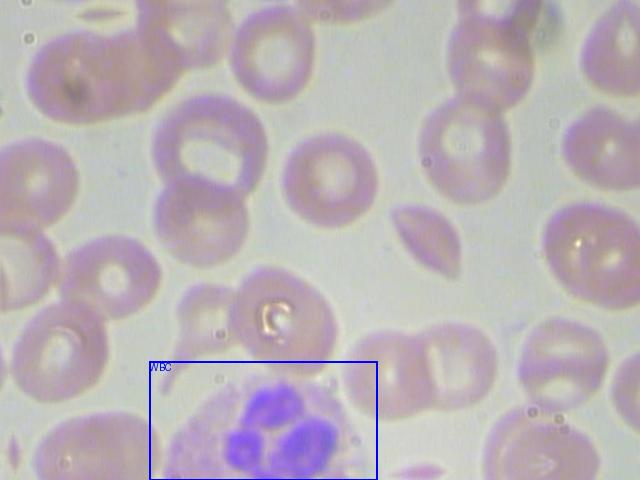WBC: (149, 361, 377, 480)
